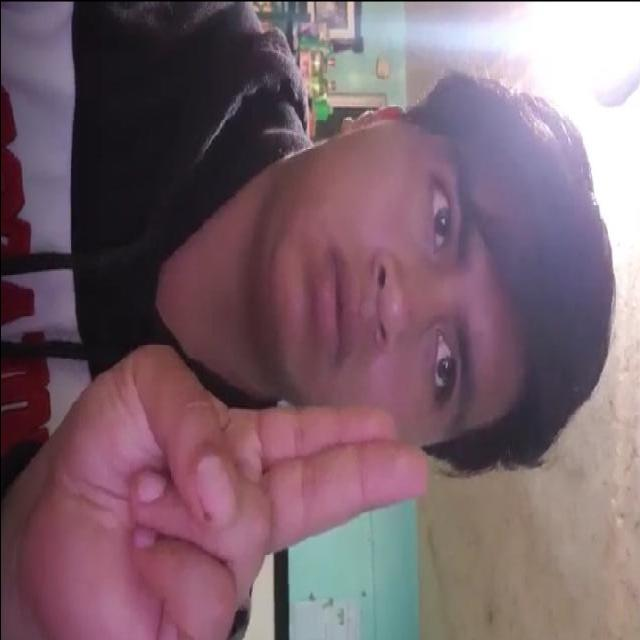U: (6, 330, 438, 640)
